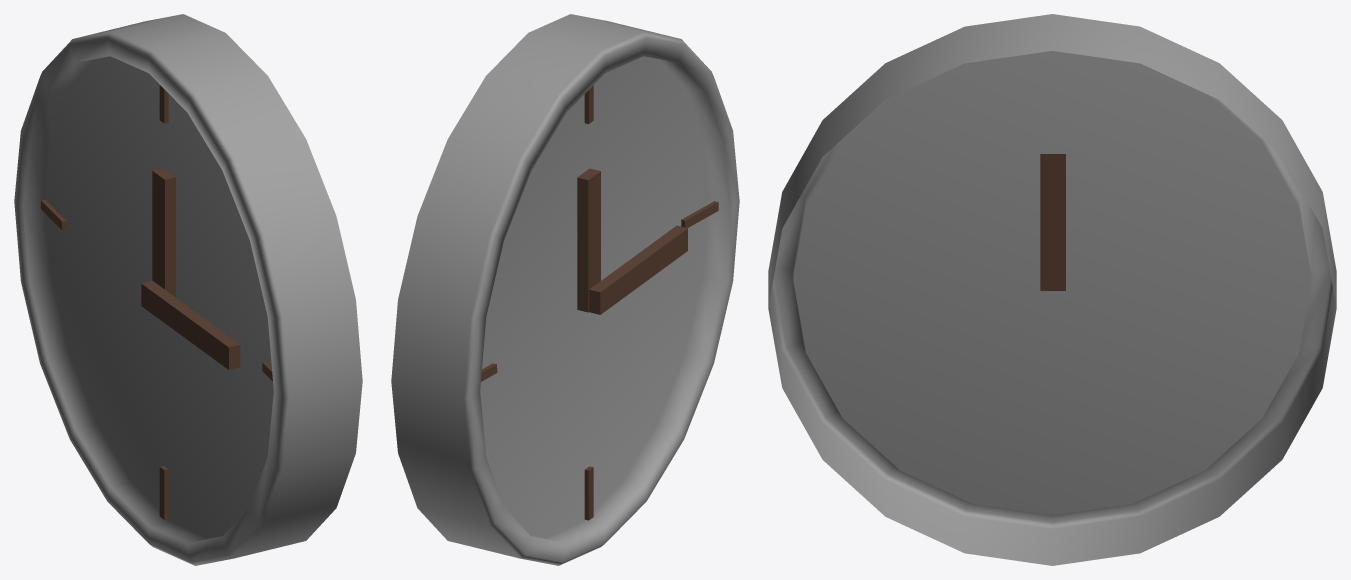
File: clock.fbx
3 renders of one model, left to right at view 1: azimuth 30°, elevation 25°; view 2: azimuth 150°, elevation 25°; view 3: azimuth 270°, elevation 25°, orthographic. The views are drawn at different scales.
Visible parts, largest first — view 1: polySurface88; view 2: polySurface88; view 3: polySurface88.
Boxes of the visible parts, x1,y1,x2,y2 form: polySurface88: (14, 14, 362, 565); polySurface88: (391, 14, 739, 565); polySurface88: (768, 14, 1336, 565).
Bounding box in the file's own units: 5.76 × 34.86 × 34.86.
